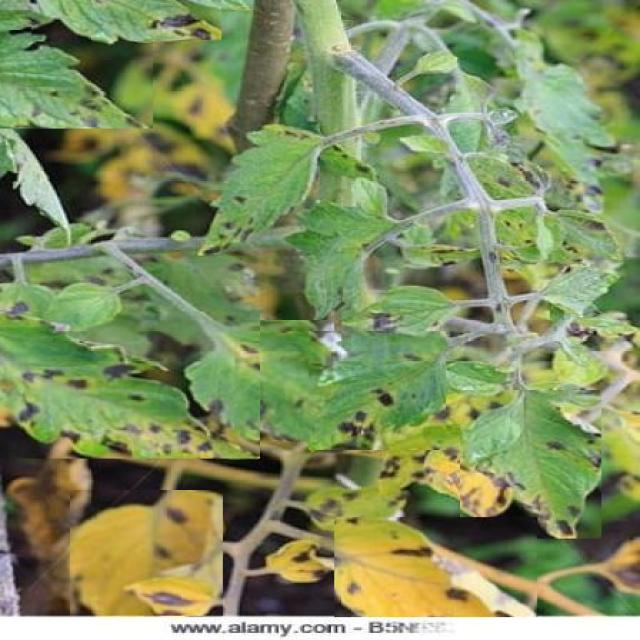Early Blight: (0, 312, 260, 458), (460, 391, 601, 539), (335, 517, 538, 617), (70, 490, 223, 616), (177, 320, 334, 441), (198, 122, 321, 257), (309, 330, 446, 450), (0, 30, 153, 129), (31, 0, 221, 41)
